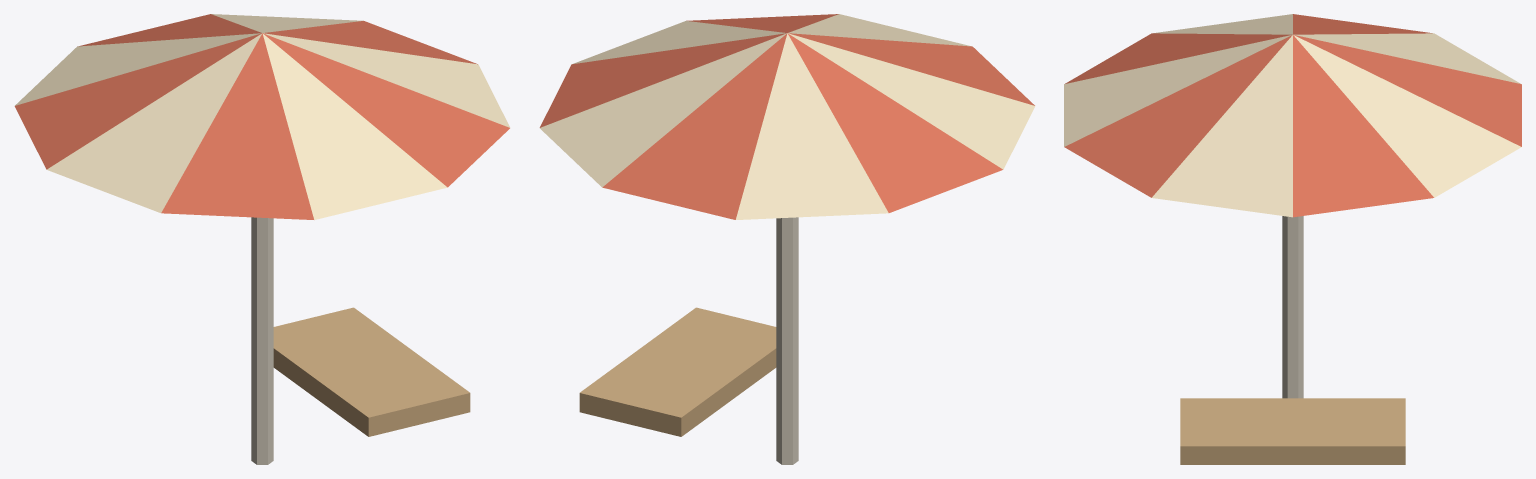
File: beach-umbrella.glb
3 views of the same model, side by side, from view 1: azimuth 30°, elevation 25°; view 2: azimuth 150°, elevation 25°; view 3: azimuth 270°, elevation 25° (orthographic). The views are drawn at different scales.
Visible parts, largest first — view 1: beach-umbrella; view 2: beach-umbrella; view 3: beach-umbrella.
Boxes of the visible parts, x1,y1,x2,y2 form: beach-umbrella: [14, 14, 510, 464]; beach-umbrella: [539, 14, 1035, 464]; beach-umbrella: [1064, 14, 1521, 464].
Bounding box in the file's own units: 2.8 × 2.65 × 2.66.
